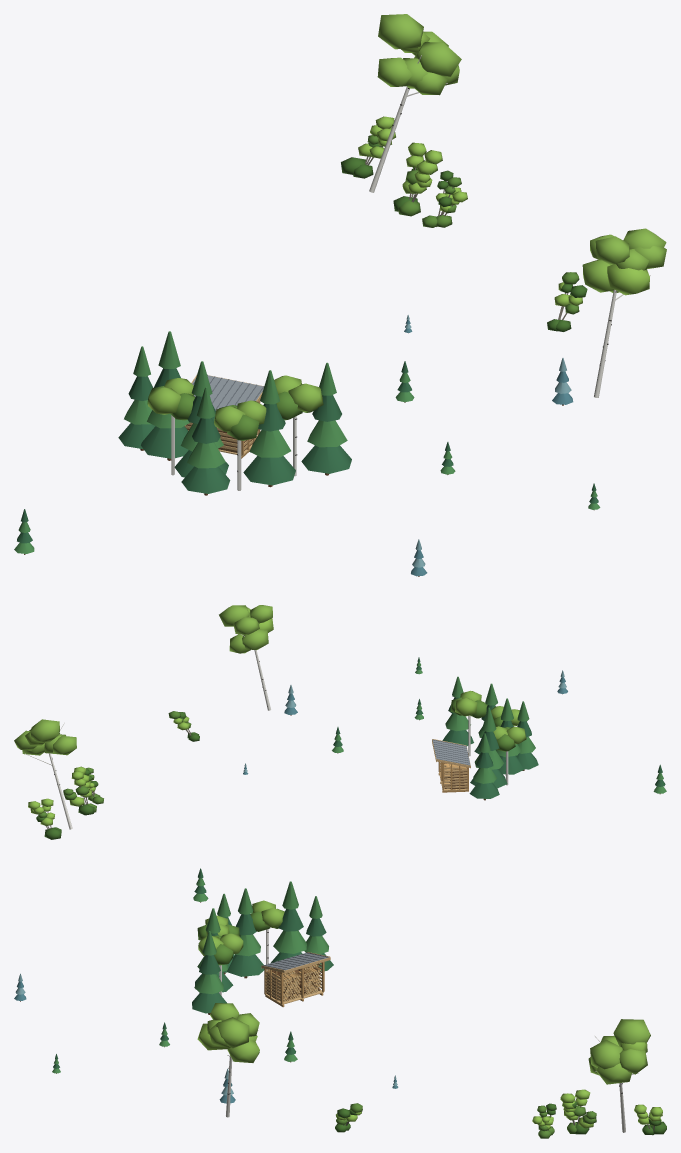
File: see-through.glb
The picture shows the model from 3 angles, top to bottom: view 1: azimuth 30°, elevation 25°; view 2: azimuth 150°, elevation 25°; view 3: azimuth 270°, elevation 25°; orthographic projection. The views are drawn at different scales.
Visible parts, largest first — view 1: BankBirch5, BankBirch4, Stand6, Stand8, Stand4, Stand1, Woodshed, Stand0, BankAlder2, Stand5, Stand7, Stand2 (+4 smaller); view 2: BankBirch4, BankBirch5, Woodshed, Stand0, BankAlder2, Stand1, Stand7, Stand8, Stand4, Stand3, Stand2, BankAlder3 (+1 smaller); view 3: BankBirch5, BankBirch4, Woodshed, Stand3, Stand8, Stand1, BankAlder2, Stand0, Stand2, Stand7, BankAlder3, BankAlder1 (+3 smaller).
Part boxes in pixels (x1=…): BankBirch5: x1=369, y1=14, x2=461, y2=192; BankBirch4: x1=582, y1=228, x2=666, y2=397; Stand6: x1=243, y1=370, x2=295, y2=487; Stand8: x1=301, y1=362, x2=351, y2=475; Stand4: x1=181, y1=387, x2=230, y2=495; Stand1: x1=141, y1=331, x2=190, y2=460; Woodshed: x1=184, y1=374, x2=264, y2=458; Stand0: x1=118, y1=346, x2=155, y2=450; BankAlder2: x1=393, y1=142, x2=442, y2=216; Stand5: x1=214, y1=400, x2=266, y2=490; Stand7: x1=274, y1=375, x2=323, y2=476; Stand2: x1=147, y1=378, x2=195, y2=475; BankBirch4: x1=219, y1=605, x2=273, y2=710; BankBirch5: x1=14, y1=719, x2=76, y2=829; Woodshed: x1=432, y1=739, x2=470, y2=792; Stand0: x1=469, y1=733, x2=499, y2=800; BankAlder2: x1=63, y1=766, x2=96, y2=815; Stand1: x1=470, y1=707, x2=507, y2=788; Stand7: x1=450, y1=690, x2=487, y2=756; Stand8: x1=442, y1=676, x2=473, y2=745; Stand4: x1=516, y1=701, x2=538, y2=770; Stand3: x1=496, y1=698, x2=524, y2=775; Stand2: x1=493, y1=726, x2=526, y2=785; BankAlder3: x1=28, y1=798, x2=61, y2=839; BankBirch5: x1=588, y1=1019, x2=650, y2=1132; BankBirch4: x1=197, y1=1003, x2=259, y2=1117; Woodshed: x1=261, y1=952, x2=330, y2=1007; Stand3: x1=227, y1=888, x2=264, y2=978; Stand8: x1=192, y1=931, x2=226, y2=1014; Stand1: x1=271, y1=881, x2=306, y2=962; BankAlder2: x1=560, y1=1089, x2=596, y2=1134; Stand0: x1=304, y1=896, x2=333, y2=970; Stand2: x1=250, y1=900, x2=284, y2=970; Stand7: x1=198, y1=933, x2=243, y2=995; BankAlder3: x1=634, y1=1104, x2=666, y2=1135; BankAlder1: x1=532, y1=1103, x2=556, y2=1138.
Size of the model in its own units: 34.41 by 7.53 by 36.23.
